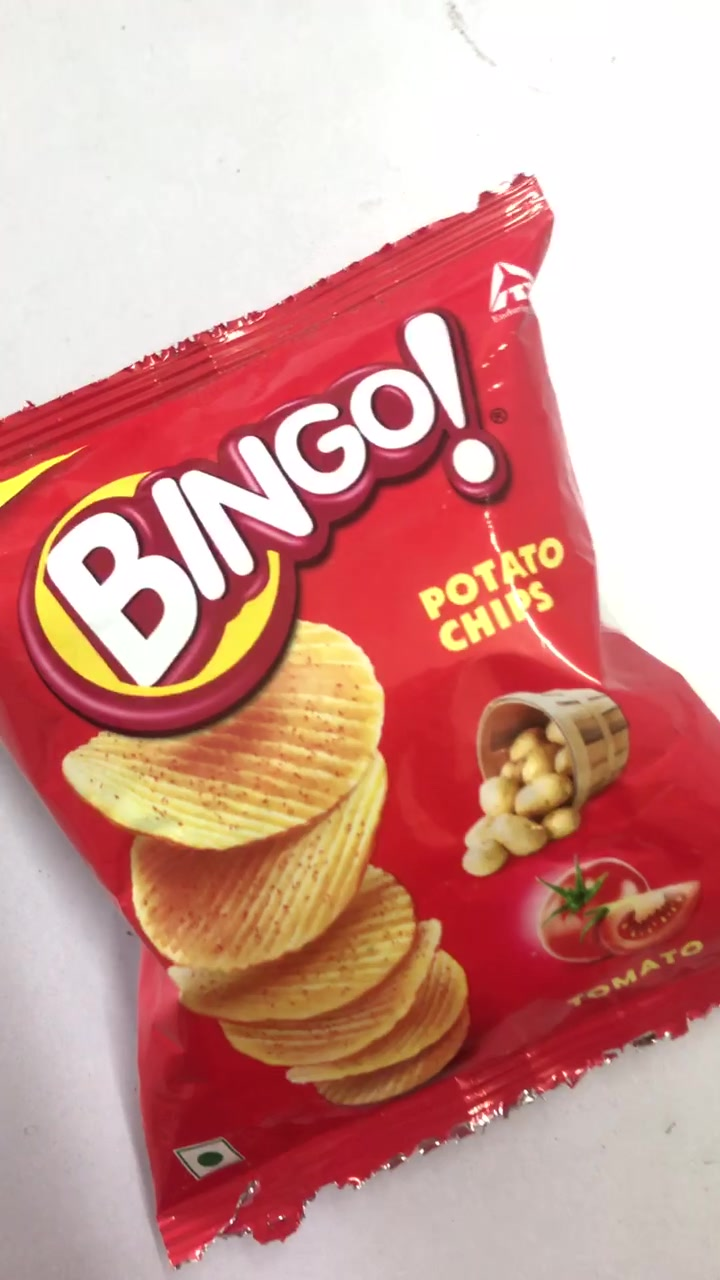Bingo: (27, 299, 698, 1132)
